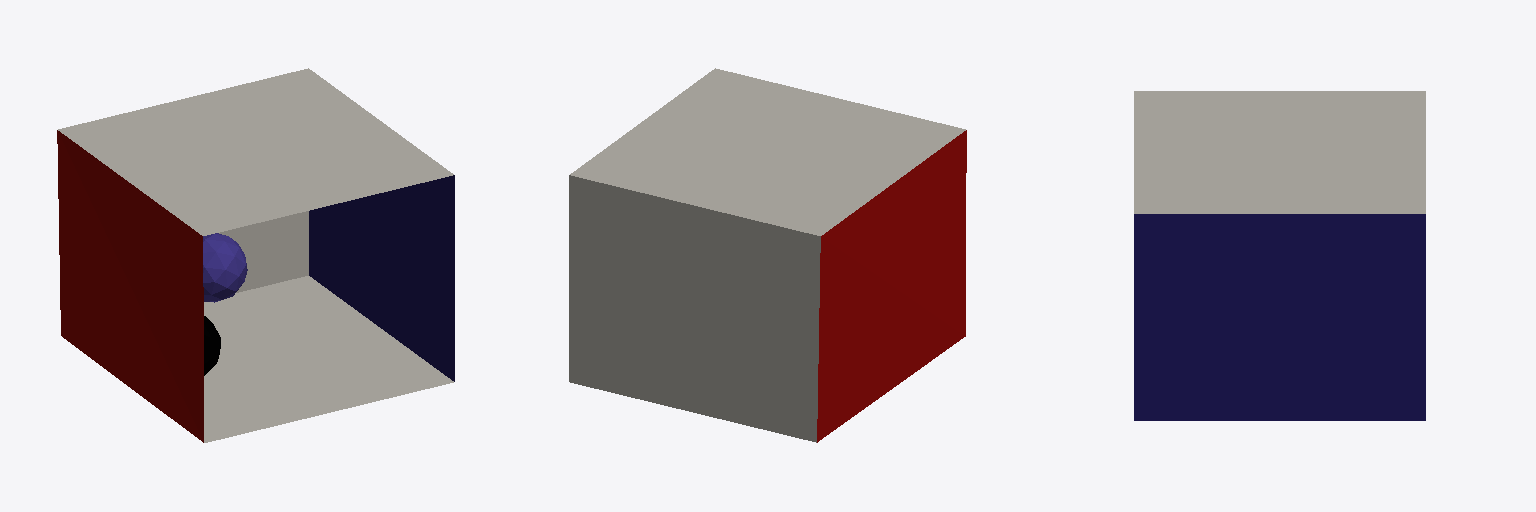
The model's file is CornellBox-Sphere-965.obj.
3 renders of one model, left to right at view 1: azimuth 30°, elevation 25°; view 2: azimuth 150°, elevation 25°; view 3: azimuth 270°, elevation 25°, orthographic.
Parts seen in each view (by area): view 1: ceiling, leftWall, floor, rightWall, backWall, leftSphere, rightSphere; view 2: backWall, ceiling, leftWall; view 3: rightWall, ceiling.
Part boxes in pixels (left/top/right/bottom): ceiling: left=58, top=68, right=453, bottom=235; leftWall: left=57, top=130, right=203, bottom=442; floor: left=204, top=276, right=453, bottom=442; rightWall: left=309, top=175, right=454, bottom=381; backWall: left=219, top=211, right=308, bottom=292; leftSphere: left=203, top=233, right=247, bottom=302; rightSphere: left=204, top=316, right=220, bottom=375; backWall: left=569, top=175, right=820, bottom=442; ceiling: left=570, top=68, right=965, bottom=235; leftWall: left=817, top=130, right=966, bottom=442; rightWall: left=1134, top=214, right=1425, bottom=420; ceiling: left=1134, top=91, right=1425, bottom=213.
Bounding box in the file's own units: 2.02 × 1.59 × 2.03.